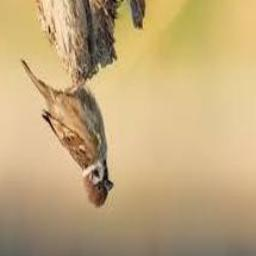Sparrow: (20, 58, 113, 208)
